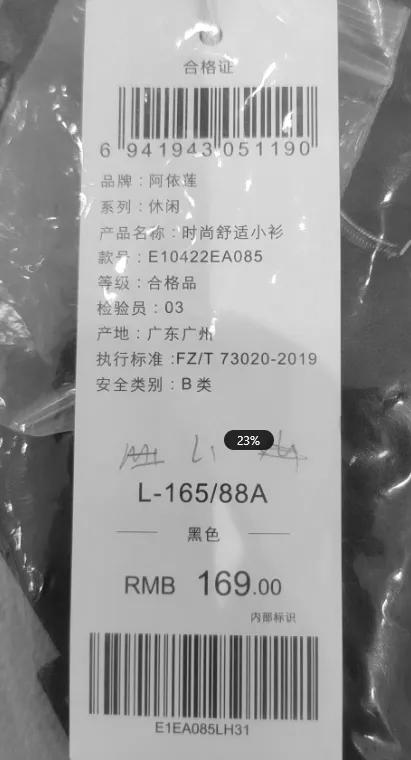Barcode: (80, 620, 327, 732), (96, 76, 323, 155)
